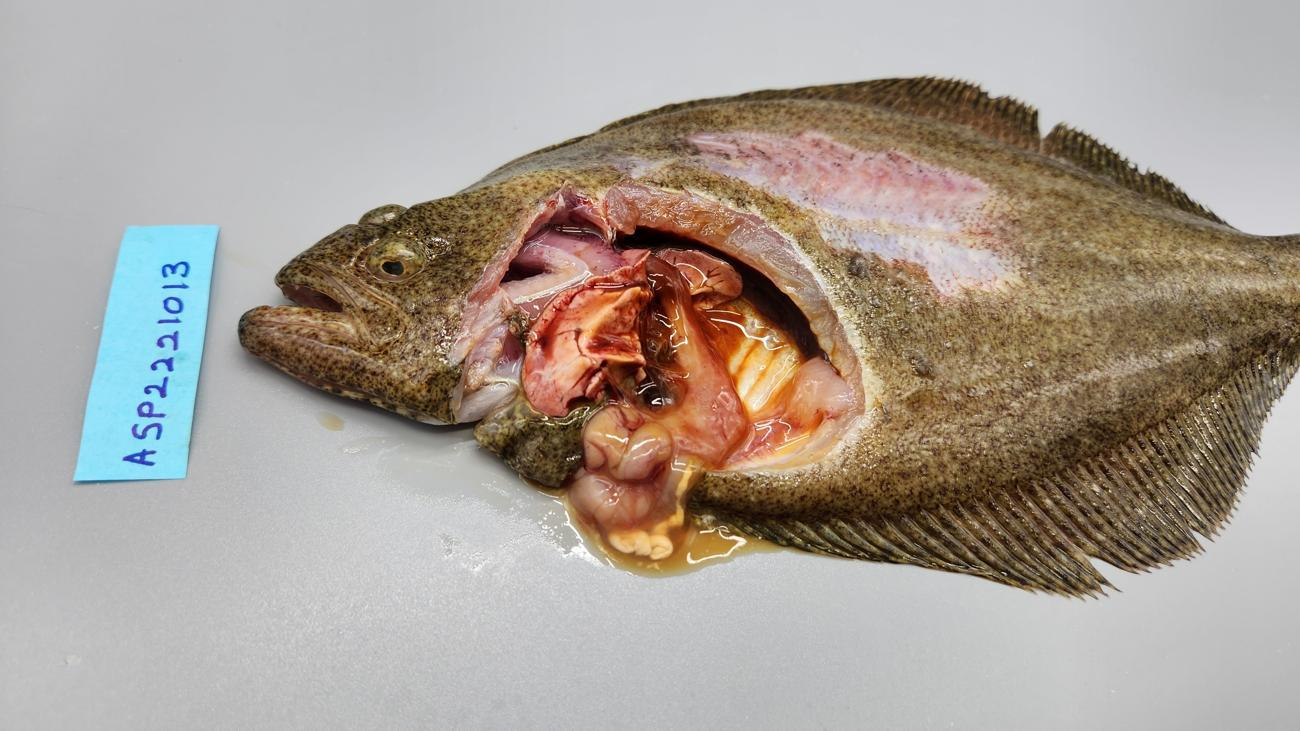SPINH: (636, 346, 747, 478)
SPINI: (583, 312, 702, 479)
